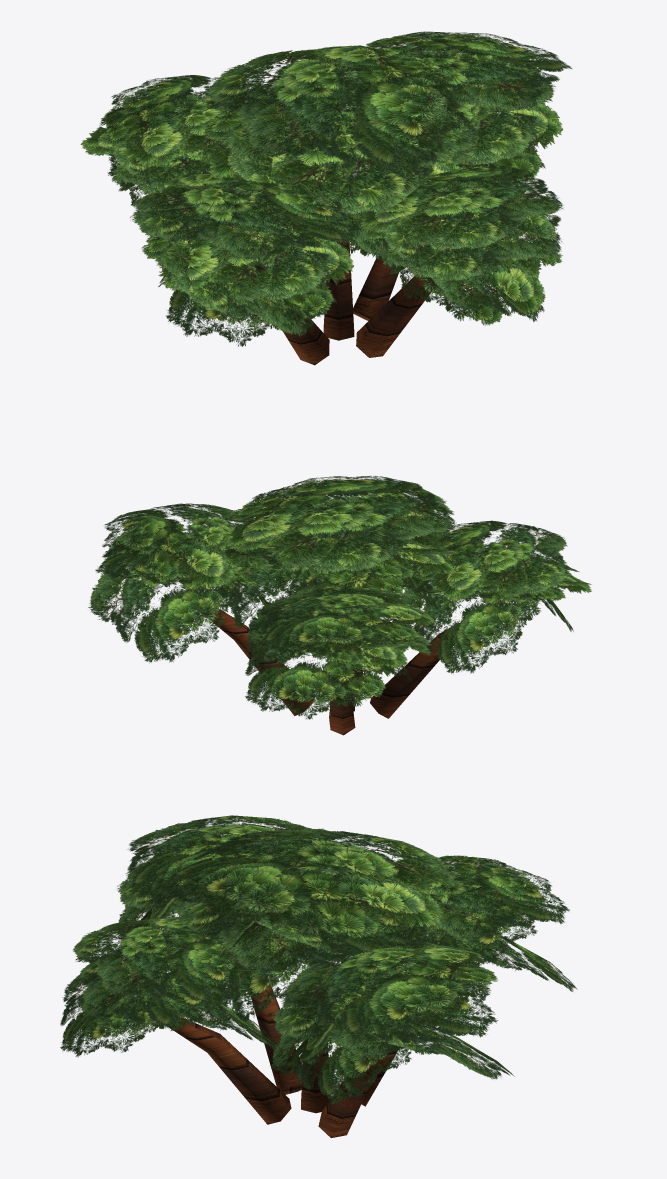
The model's file is tree_shrub_cluster.glb.
3 views of the same model, one above another, from view 1: azimuth 30°, elevation 25°; view 2: azimuth 150°, elevation 25°; view 3: azimuth 270°, elevation 25° (orthographic). The views are drawn at different scales.
Parts seen in each view (by area): view 1: shrub_canopy, shrub_twigs; view 2: shrub_canopy, shrub_twigs; view 3: shrub_canopy, shrub_twigs.
Part boxes in pixels (x1,y1,x2,y2): shrub_canopy: [80, 31, 572, 346]; shrub_twigs: [255, 241, 435, 365]; shrub_canopy: [88, 476, 591, 719]; shrub_twigs: [201, 592, 460, 735]; shrub_canopy: [60, 815, 576, 1104]; shrub_twigs: [169, 965, 452, 1137].
Bounding box in the file's own units: 3.82 × 1.49 × 3.32.
2 materials, 2 textured.
